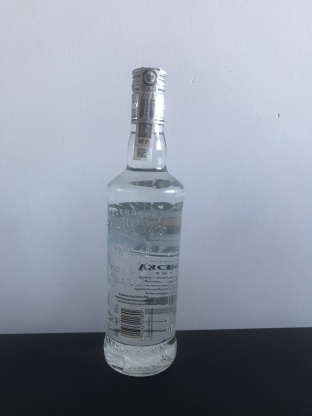nakretka: (128, 62, 168, 128)
